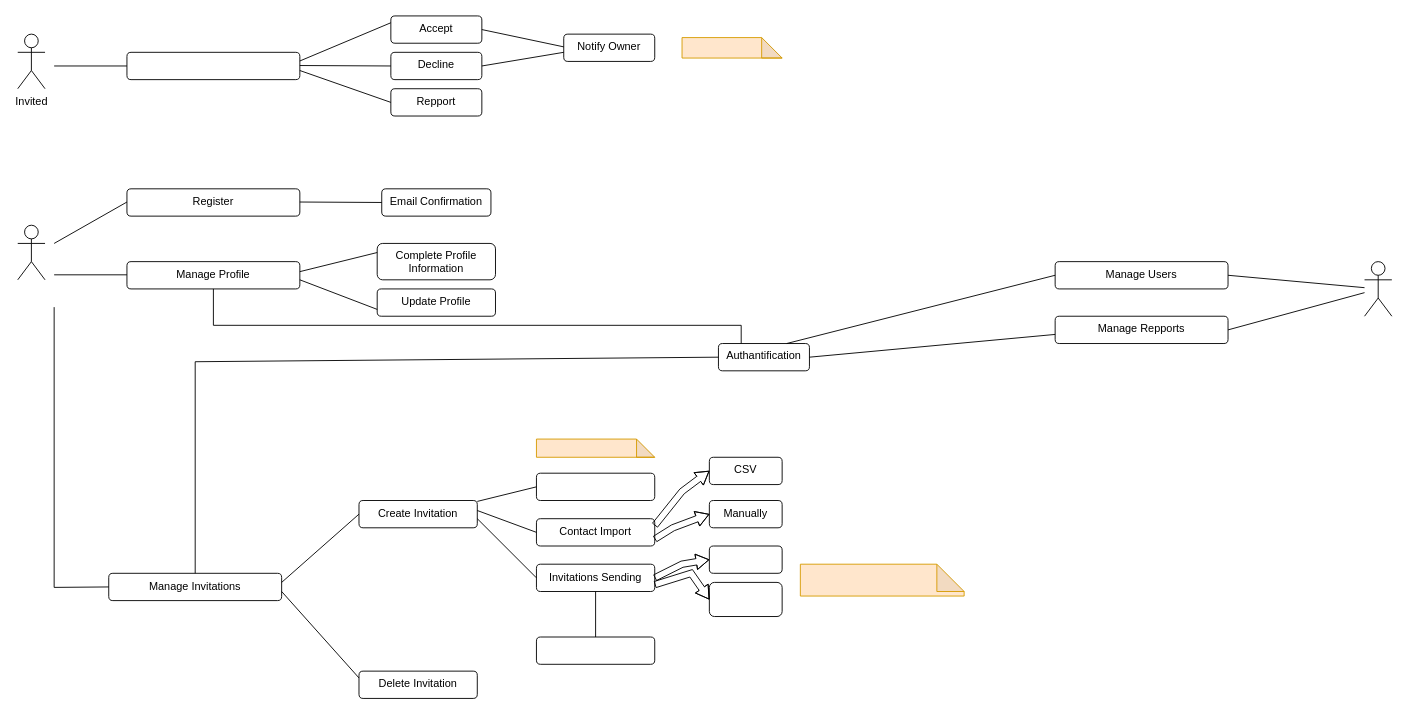
The diagram is 1410 pixels wide and 714 high, and some of its shapes have lost their labels. The centre of each missing label's shape, as x and y in pixels:
"! Corn Job / Queue" goes at point (881, 579).
"! Grapes JS" goes at point (595, 447).
"! Socket" goes at point (731, 47).
"Admin" goes at point (1378, 288).
"Campaign Design" goes at point (595, 486).
"Email" goes at point (745, 559).
"Receive the invitation" goes at point (213, 65).
"Response Tracking" goes at point (595, 650).
"Résaux Sociaux" goes at point (745, 599).
"User" goes at point (31, 252).
